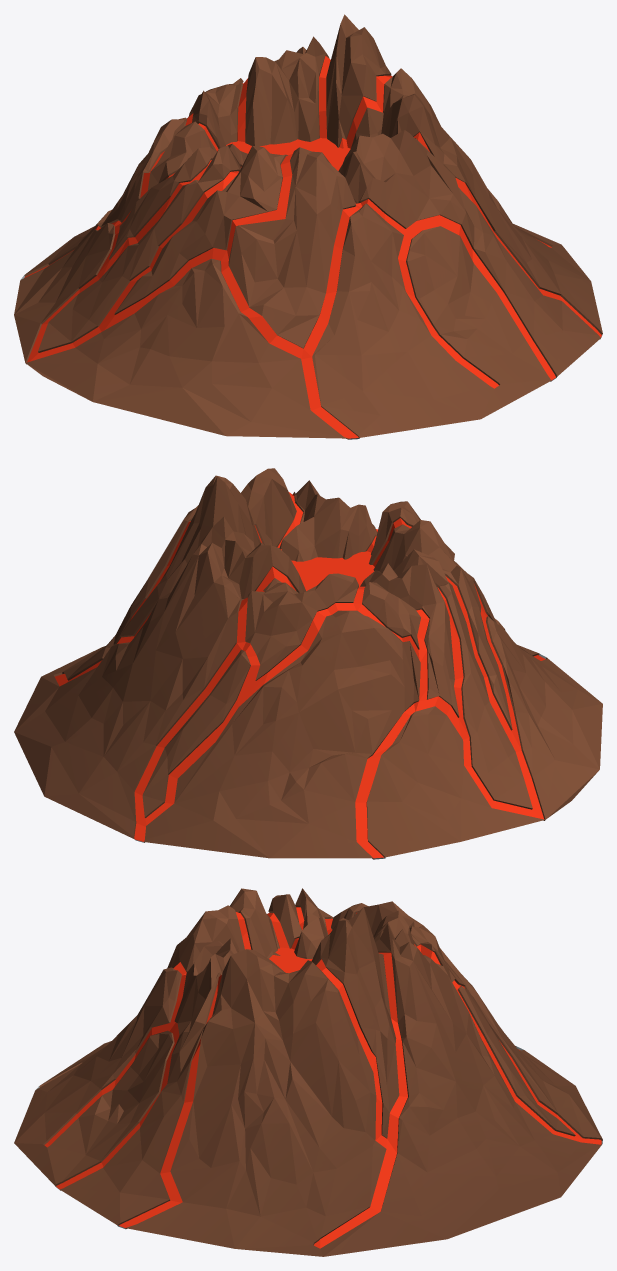
The model's file is volcano.glb.
3 renders of one model, top to bottom at view 1: azimuth 30°, elevation 25°; view 2: azimuth 150°, elevation 25°; view 3: azimuth 270°, elevation 25°, orthographic. The views are drawn at different scales.
Visible parts, largest first — view 1: PP_Volcano_Lava_09; view 2: PP_Volcano_Lava_09; view 3: PP_Volcano_Lava_09.
Part boxes in pixels (x1,y1,x2,y2): PP_Volcano_Lava_09: (14, 14, 602, 439); PP_Volcano_Lava_09: (14, 468, 602, 859); PP_Volcano_Lava_09: (14, 888, 602, 1256).
Size of the model in its own units: 15.42 by 8.14 by 15.39.
4 materials, 4 textured.
